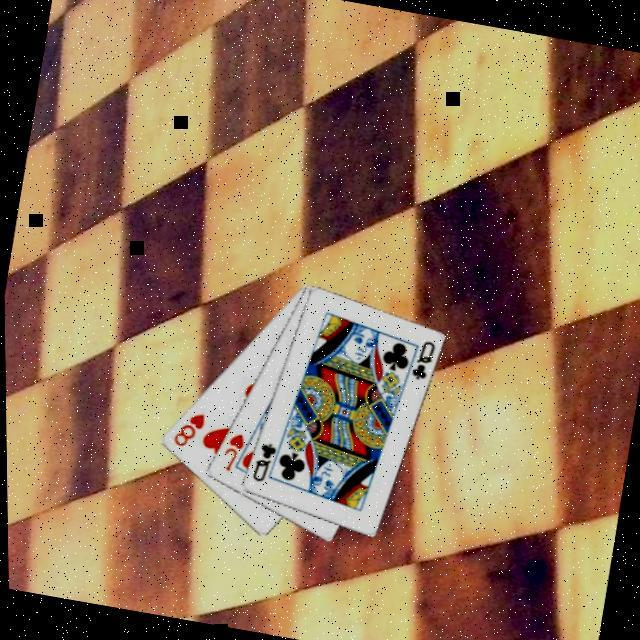8H: (166, 403, 208, 451)
JH: (215, 425, 247, 473)
QC: (244, 435, 279, 485), (403, 332, 437, 382)
